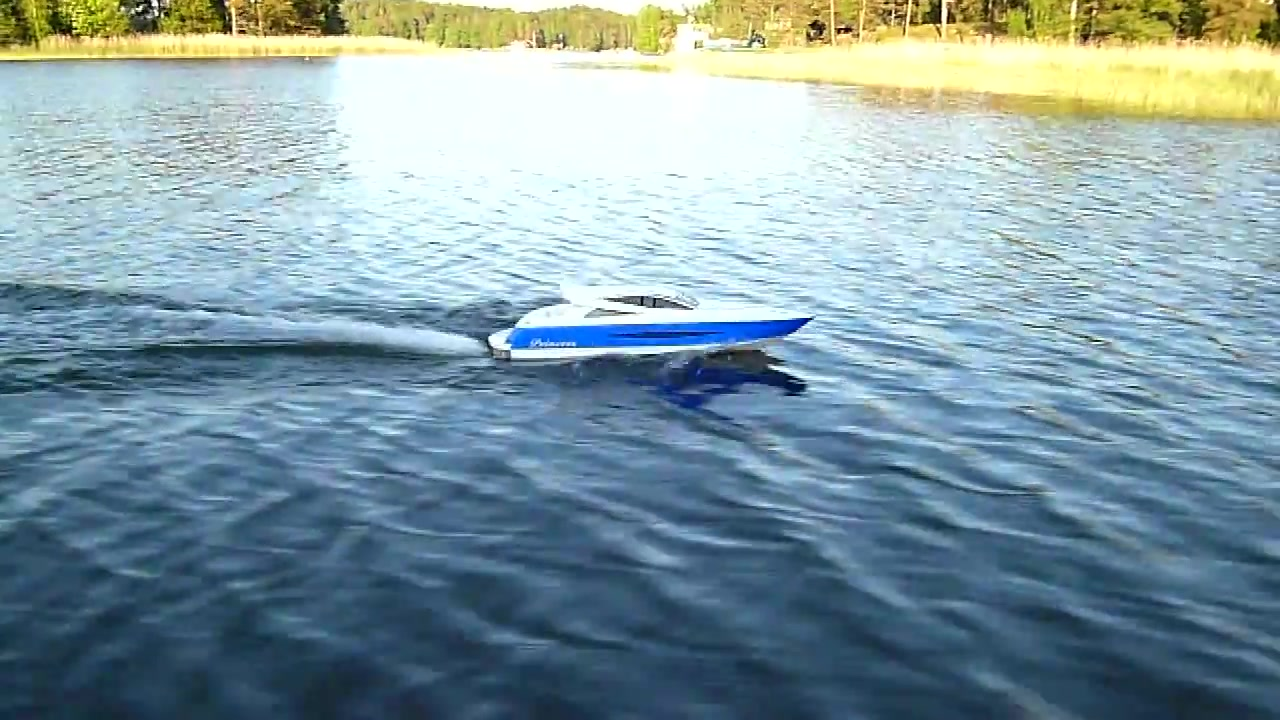boat: (480, 277, 831, 369)
